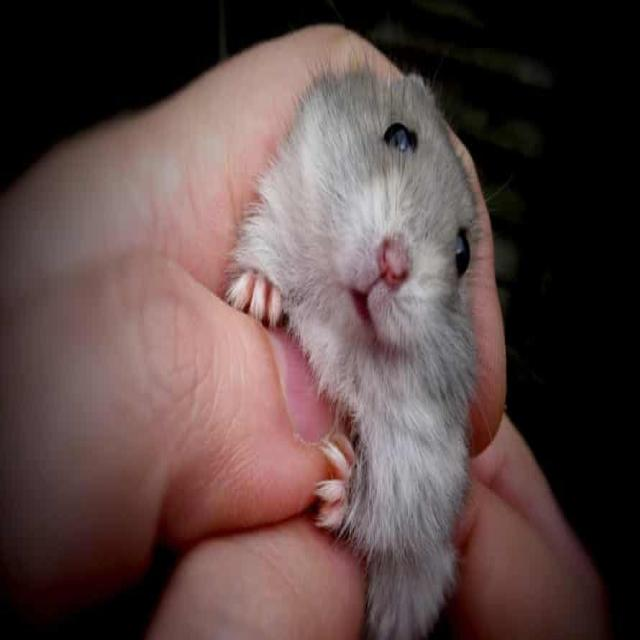hamster: (273, 147, 467, 526)
